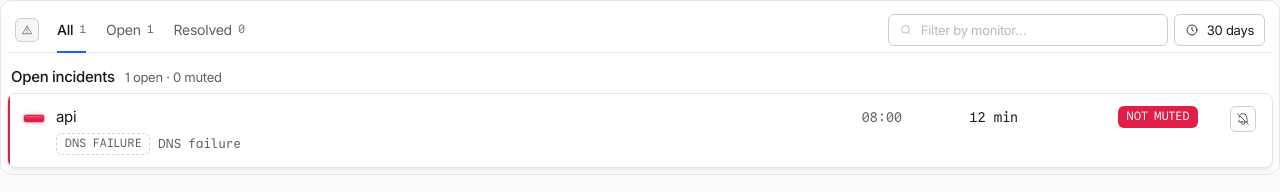
Scenario: acknowledging, end to end › sends the ack and then re-reads the state from the server
Click the button named "mute repeat": (1243,119) [1230,106,1256,132]
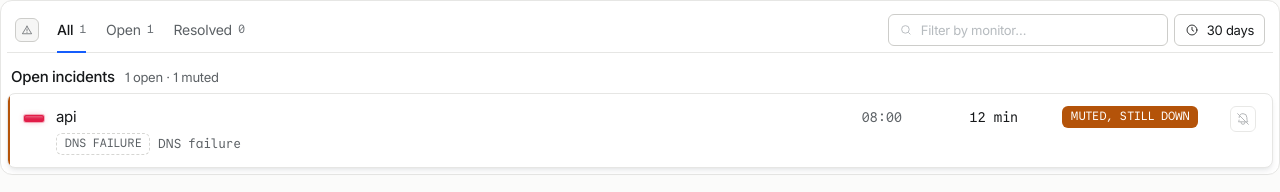
Check: the text "still down" is shown, box [1071,110,1189,123]
